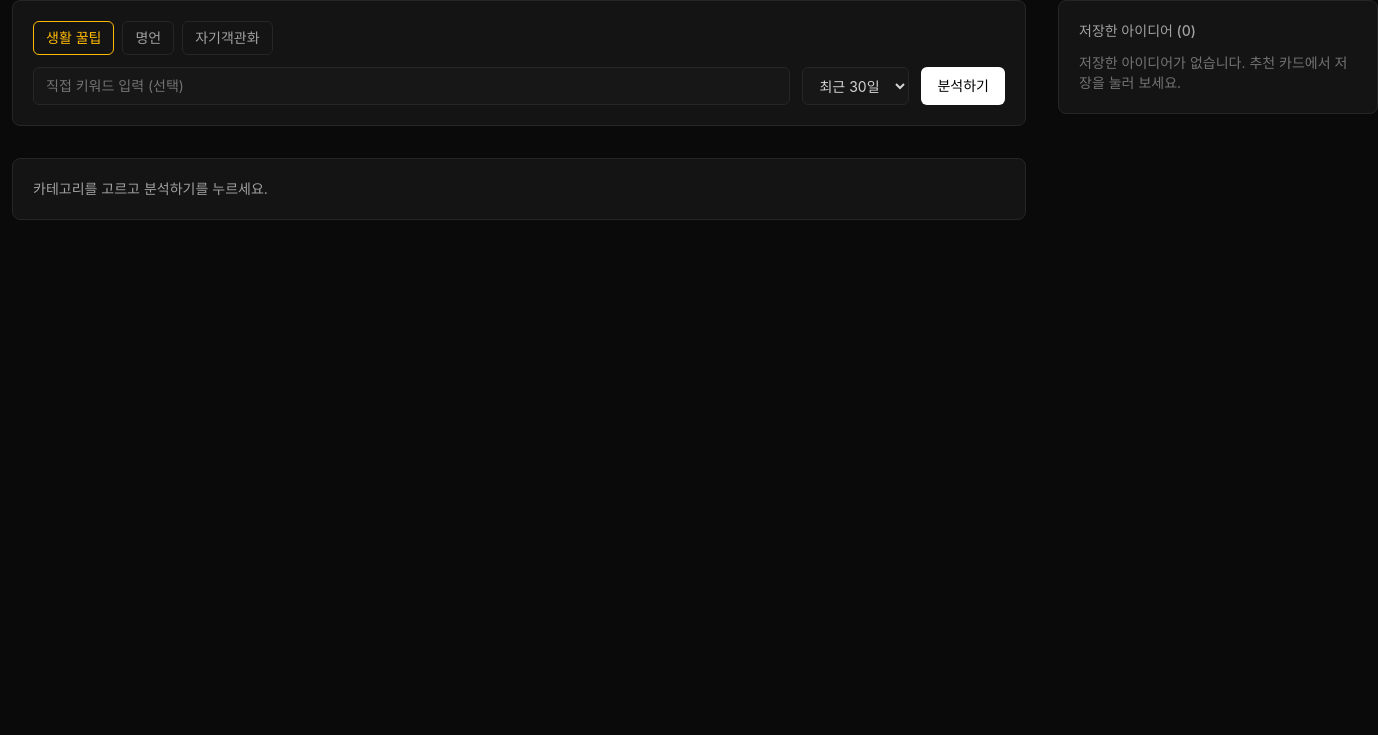
it: Dashboard › 저장 › 저장을 누르면 localStorage와 저장 패널에 반영되고, 다시 누르면 해제된다
This screenshot has width=1378, height=735.
Click the button "분석하기" at (963, 86), box [922,67,1005,105]
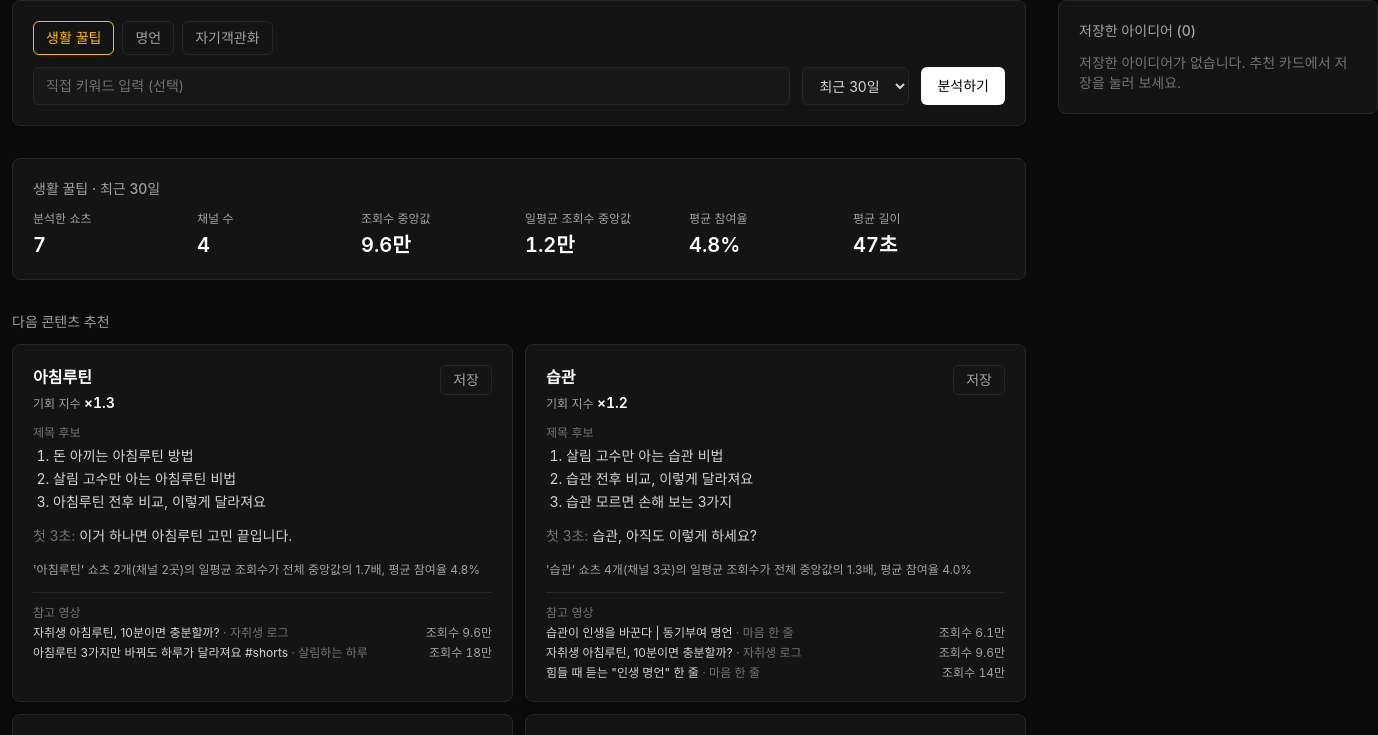
Click the 1st button "저장" at (466, 380), box [440,365,492,395]
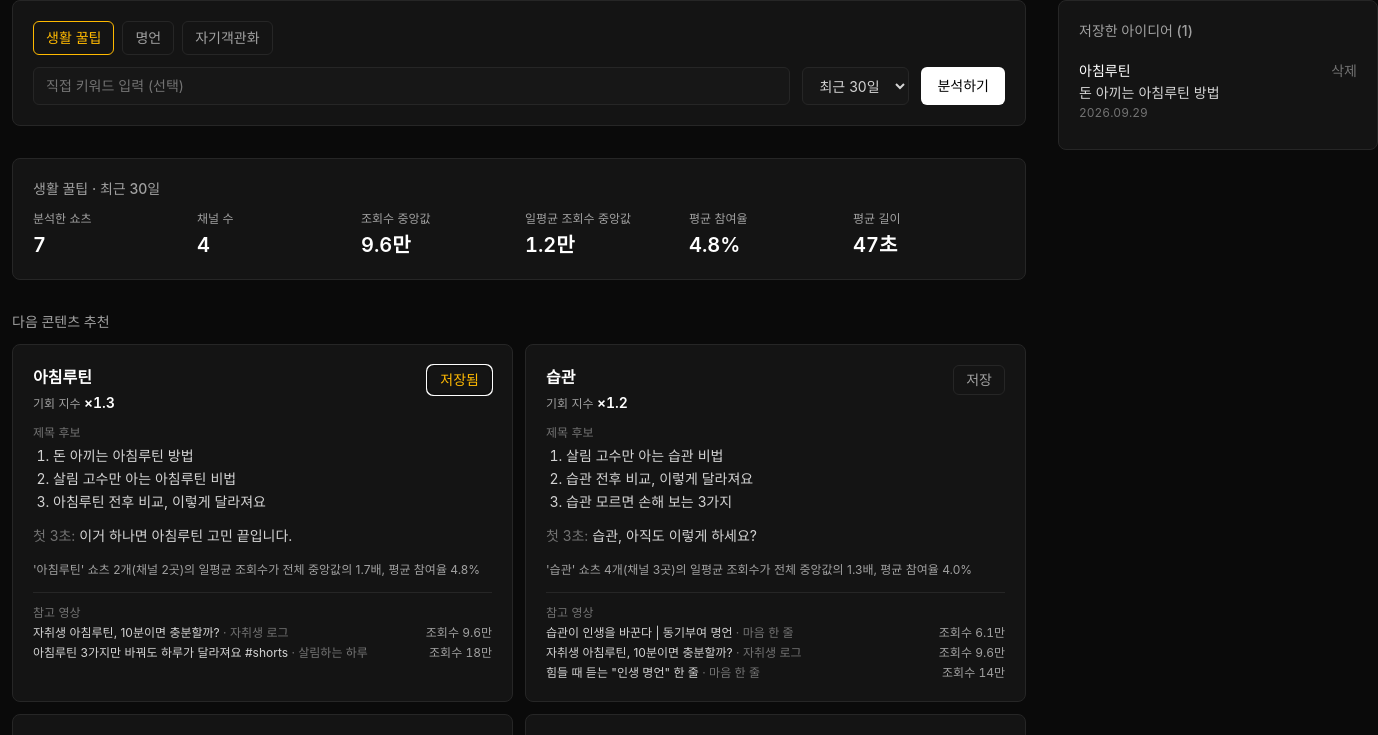
Result: the heading "저장한 아이디어 (1)" is shown at [1079,22,1193,39]
Result: the text "아침루틴" is shown at [1079,62,1130,79]
Click the button "저장됨" at (460, 380), box [427,365,492,395]
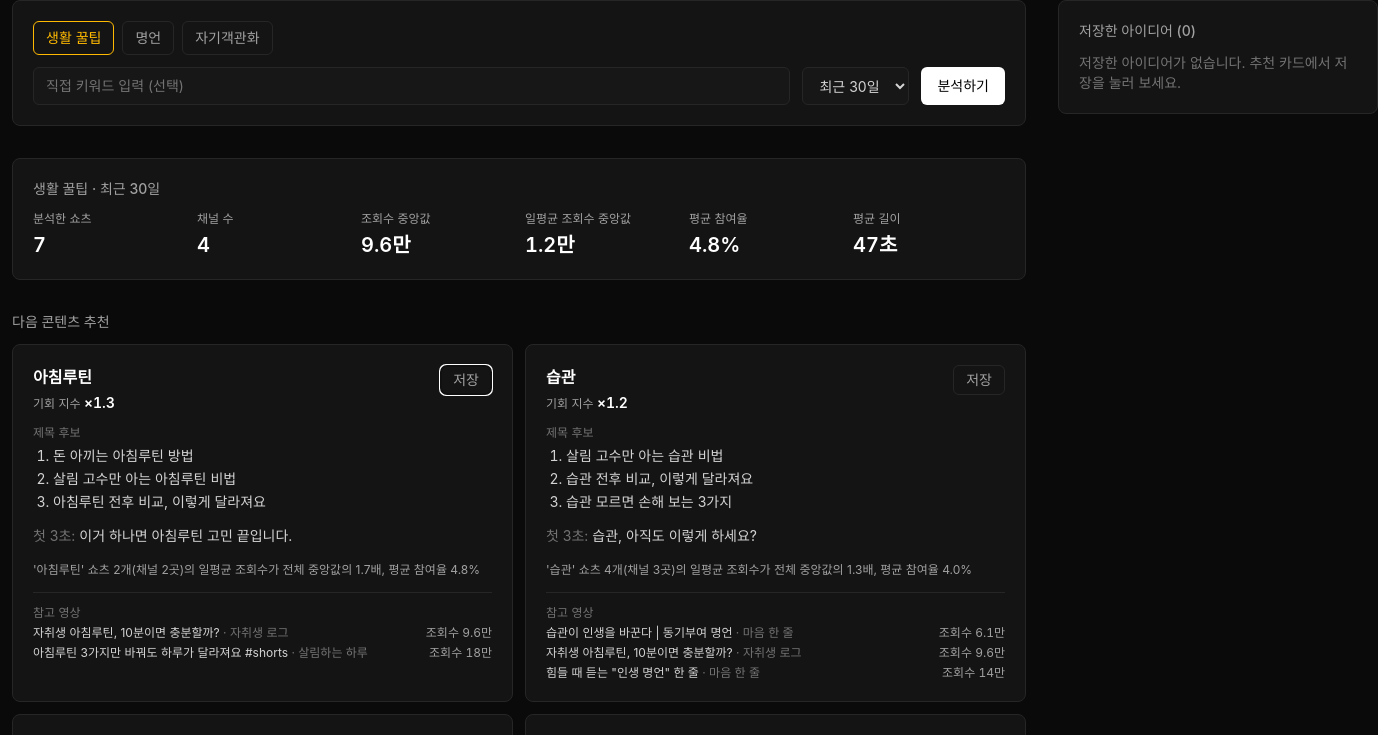
Result: the heading "저장한 아이디어 (0)" is shown at [1079,22,1196,39]
